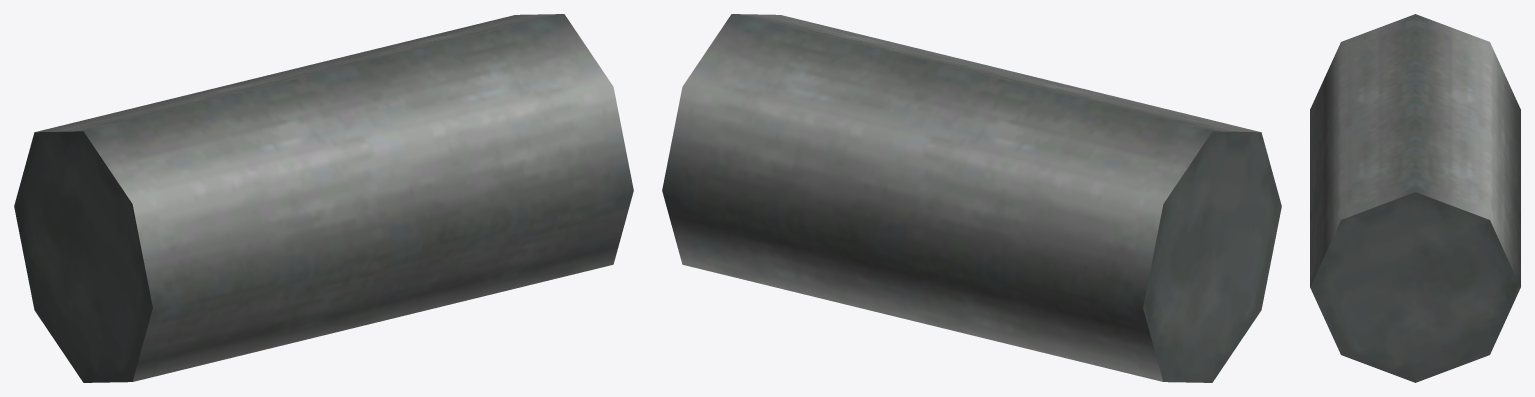
The model's file is pipe02.obj.
3 views of the same model, side by side, from view 1: azimuth 30°, elevation 25°; view 2: azimuth 150°, elevation 25°; view 3: azimuth 270°, elevation 25° (orthographic). The views are drawn at different scales.
Parts seen in each view (by area): view 1: pipe02; view 2: pipe02; view 3: pipe02.
Part boxes in pixels (<box>): pipe02: <box>14,14,633,382</box>; pipe02: <box>662,14,1281,382</box>; pipe02: <box>1310,14,1520,382</box>.
Bounding box in the file's own units: 1 × 0.5 × 0.5.
Materials: 1 (1 with a texture image).
